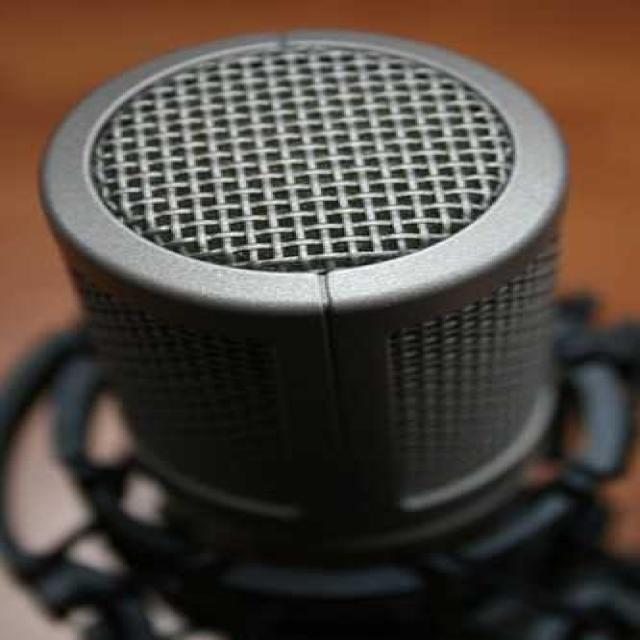microphone: (50, 32, 565, 543)
